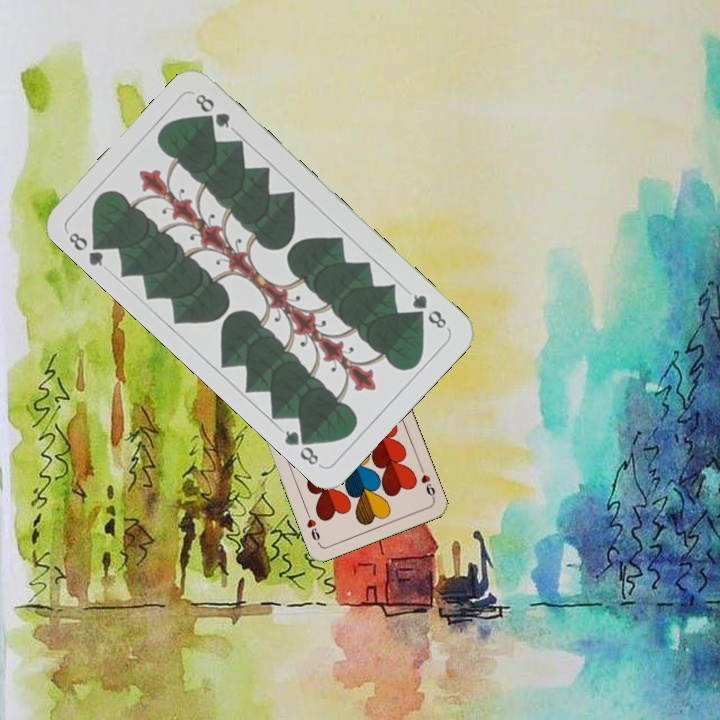G8: (64, 228, 110, 270), (408, 289, 450, 332)
H9: (416, 463, 438, 502)
